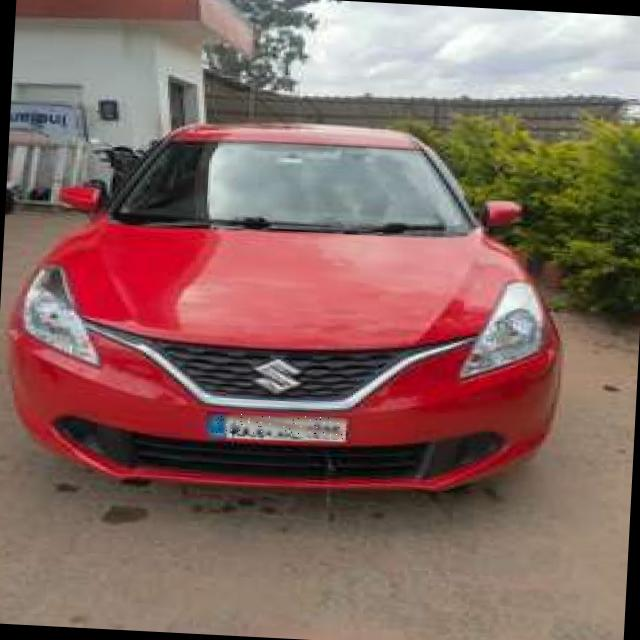Plate: (207, 413, 345, 441)
